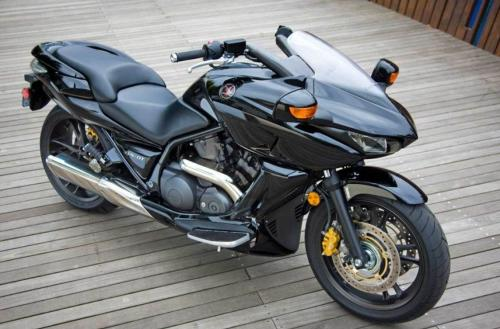motor: (24, 20, 464, 321)
